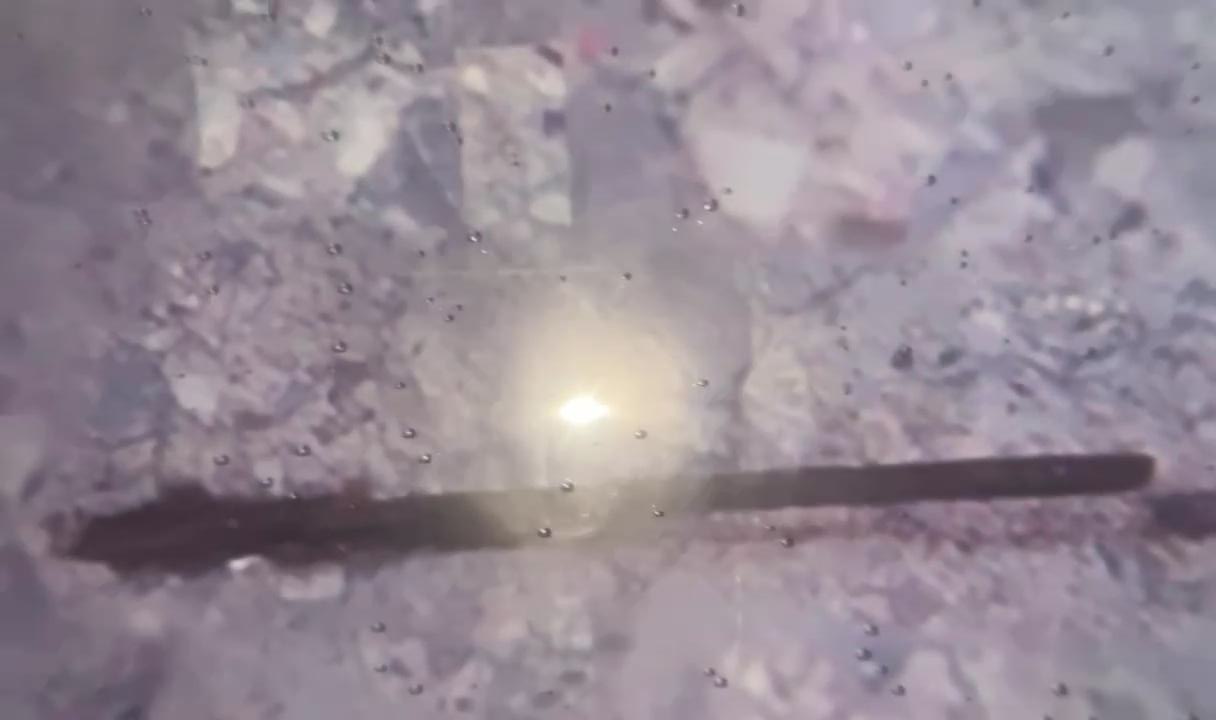Exposed reinforcement: (55, 452, 1155, 574)
